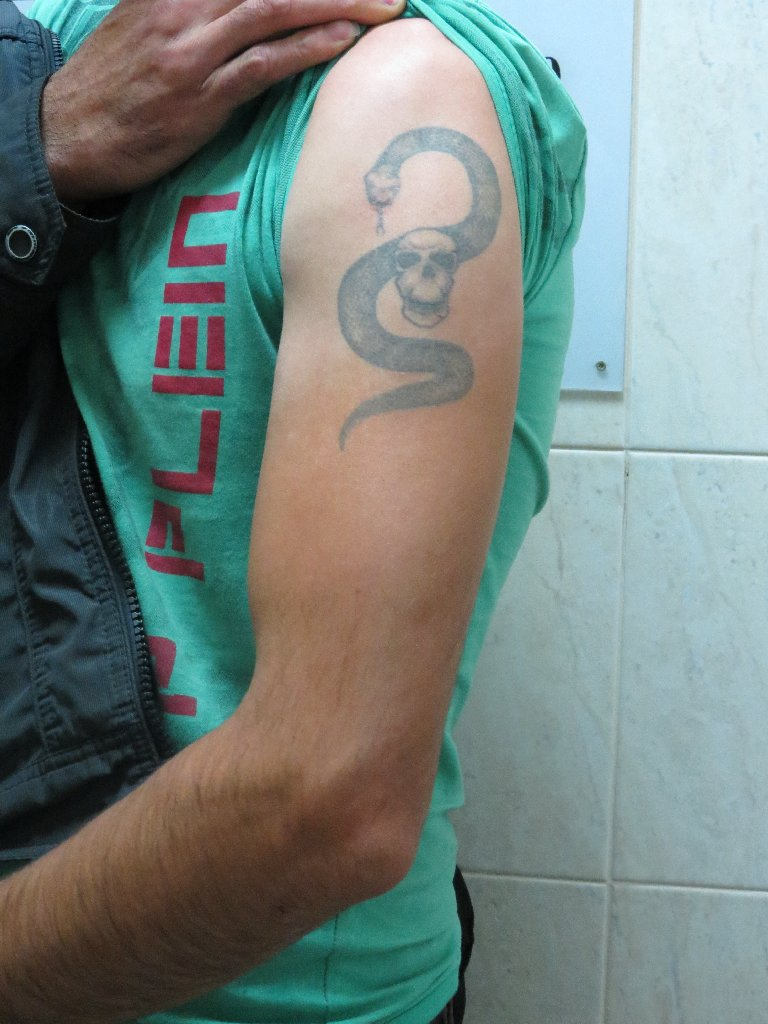tatu7_zmeya: (352, 85, 500, 459)
